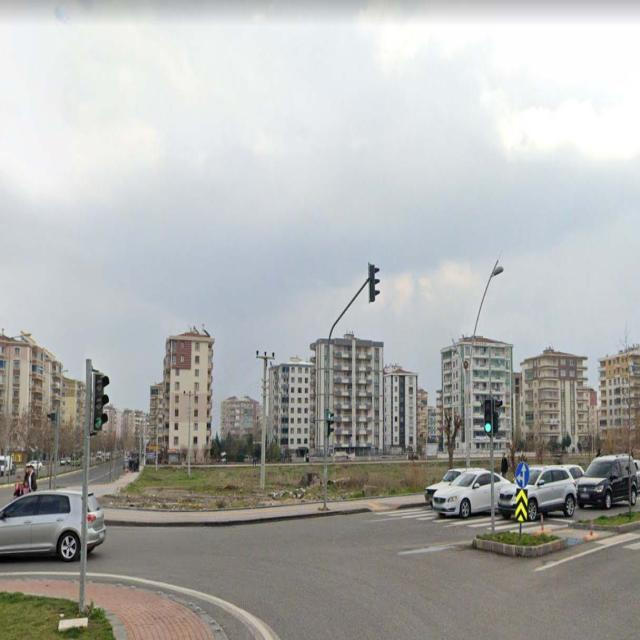ilerisol: (516, 461, 529, 489)
yesil: (92, 371, 108, 433), (484, 400, 494, 434)
